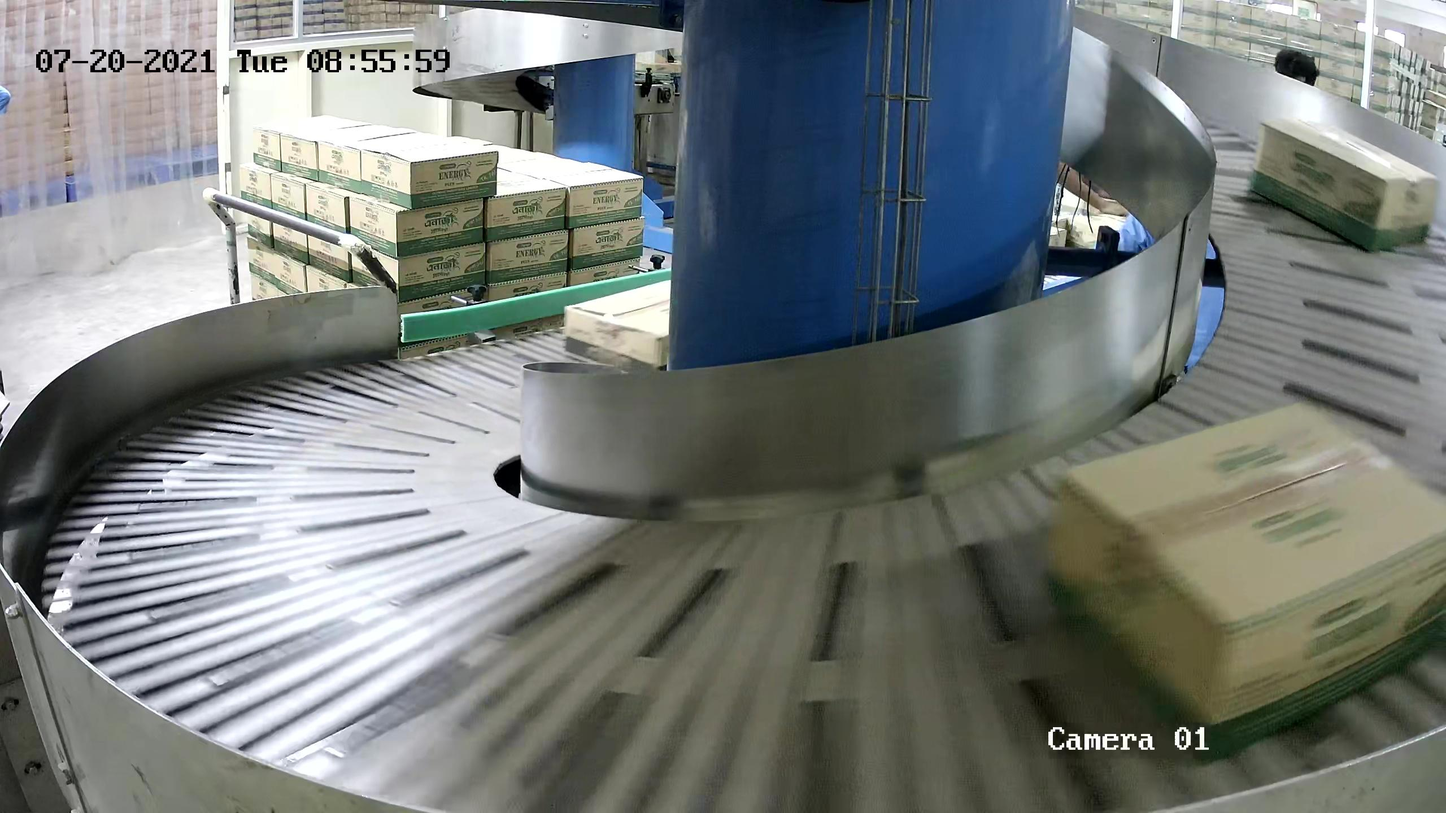Box: (1039, 400, 1446, 769), (1246, 113, 1439, 256), (563, 278, 671, 372)
